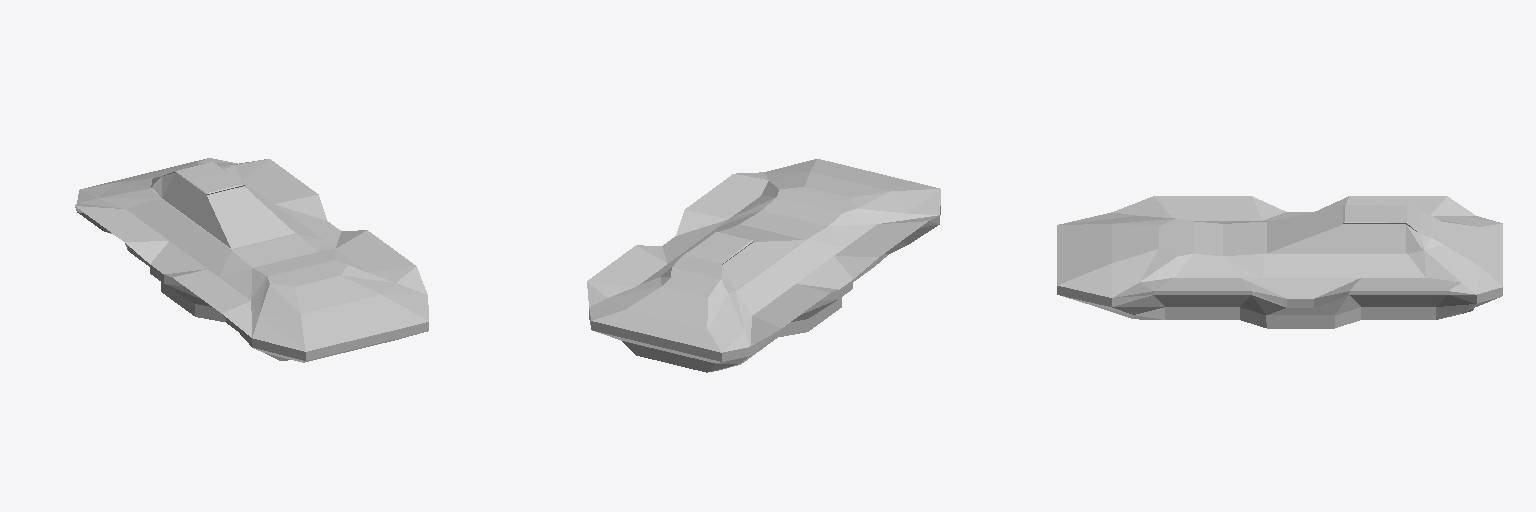
The model's file is Wheel.obj.
3 views of the same model, side by side, from view 1: azimuth 30°, elevation 25°; view 2: azimuth 150°, elevation 25°; view 3: azimuth 270°, elevation 25° (orthographic).
Parts seen in each view (by area): view 1: Mesh_Mesh_Mesh_Mesh_Mesh_Mesh_Car_Plane.001; view 2: Mesh_Mesh_Mesh_Mesh_Mesh_Mesh_Car_Plane.001; view 3: Mesh_Mesh_Mesh_Mesh_Mesh_Mesh_Car_Plane.001.
Boxes of the visible parts, x1=… form: Mesh_Mesh_Mesh_Mesh_Mesh_Mesh_Car_Plane.001: x1=75, y1=158, x2=428, y2=362; Mesh_Mesh_Mesh_Mesh_Mesh_Mesh_Car_Plane.001: x1=587, y1=159, x2=940, y2=372; Mesh_Mesh_Mesh_Mesh_Mesh_Mesh_Car_Plane.001: x1=1057, y1=196, x2=1502, y2=328.
Bounding box in the file's own units: 0.9845 × 0.4175 × 1.95.